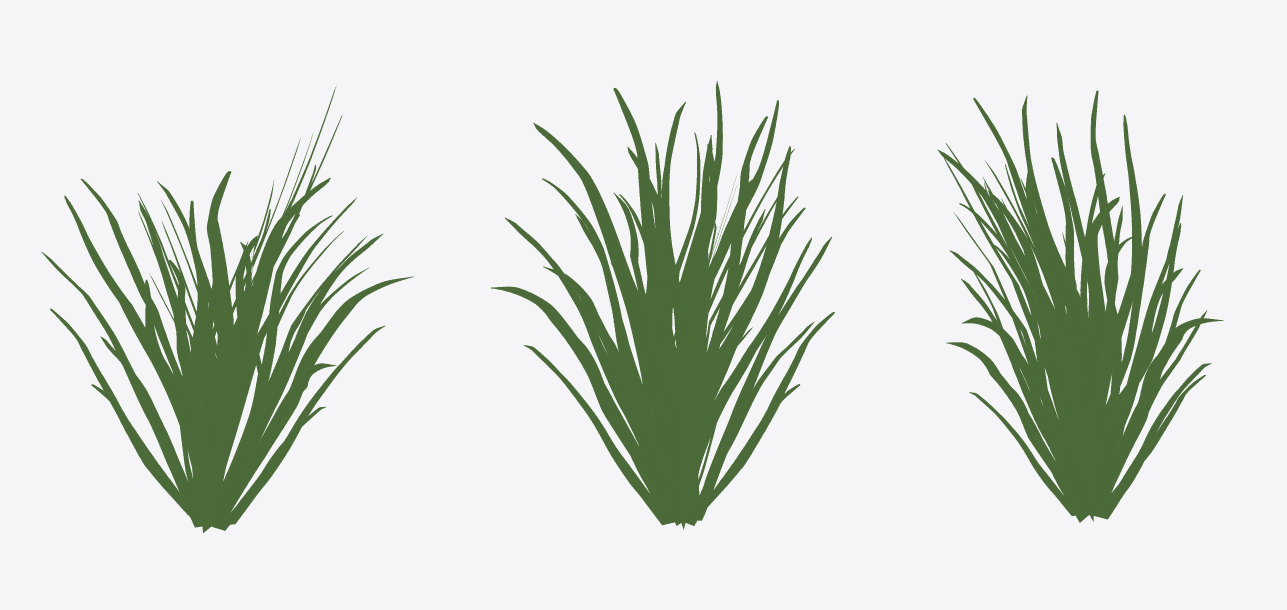
Rendered from MEADOW_SM_Grass_02_01.gltf.
The picture shows the model from 3 angles, left to right: view 1: azimuth 30°, elevation 25°; view 2: azimuth 150°, elevation 25°; view 3: azimuth 270°, elevation 25°; orthographic projection. The views are drawn at different scales.
Parts seen in each view (by area): view 1: SM_Grass_02_01_LOD0; view 2: SM_Grass_02_01_LOD0; view 3: SM_Grass_02_01_LOD0.
Part boxes in pixels (x1,y1,x2,y2): SM_Grass_02_01_LOD0: [41, 86, 413, 532]; SM_Grass_02_01_LOD0: [491, 81, 834, 529]; SM_Grass_02_01_LOD0: [938, 90, 1223, 522].
Bounding box in the file's own units: 0.551 × 0.6247 × 0.5159.
1 material, 1 textured.
